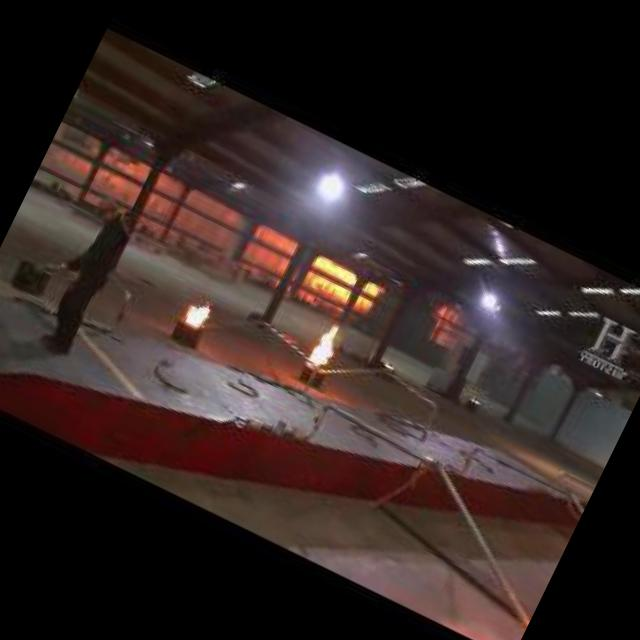fire: (296, 319, 351, 380), (178, 295, 218, 332)
